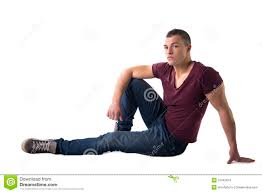sitting: (8, 17, 260, 168)
